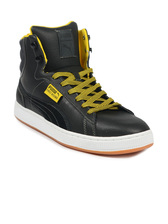shoes: (13, 23, 157, 155)
